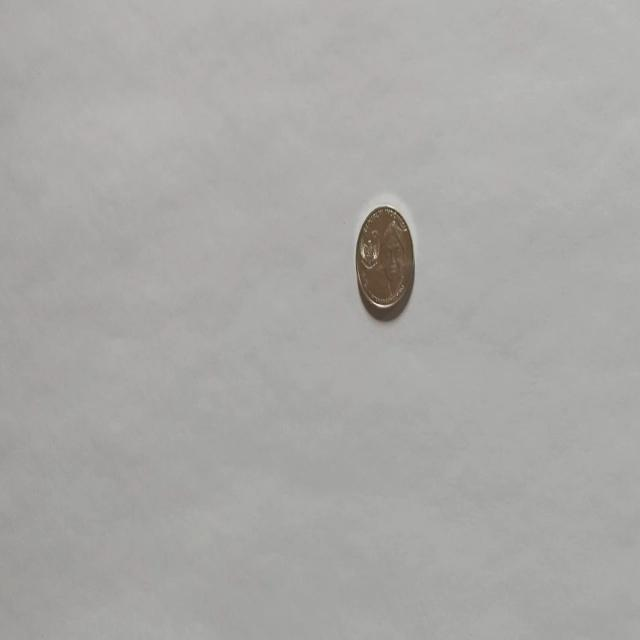dua ratus rupiah: (354, 204, 416, 320)
